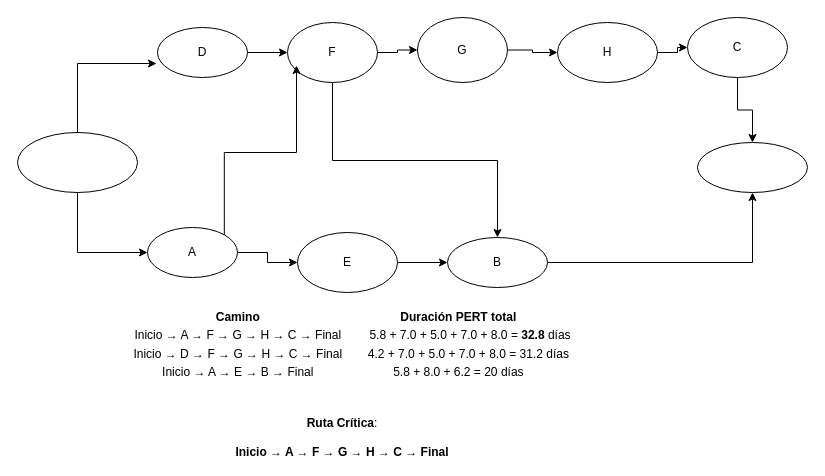
Image size: 825x476. Some labels were removed from this diagram. The centre of each missing label's shape, as x and y in pixels:
Final: [752,167]
Inicio: [77,162]
